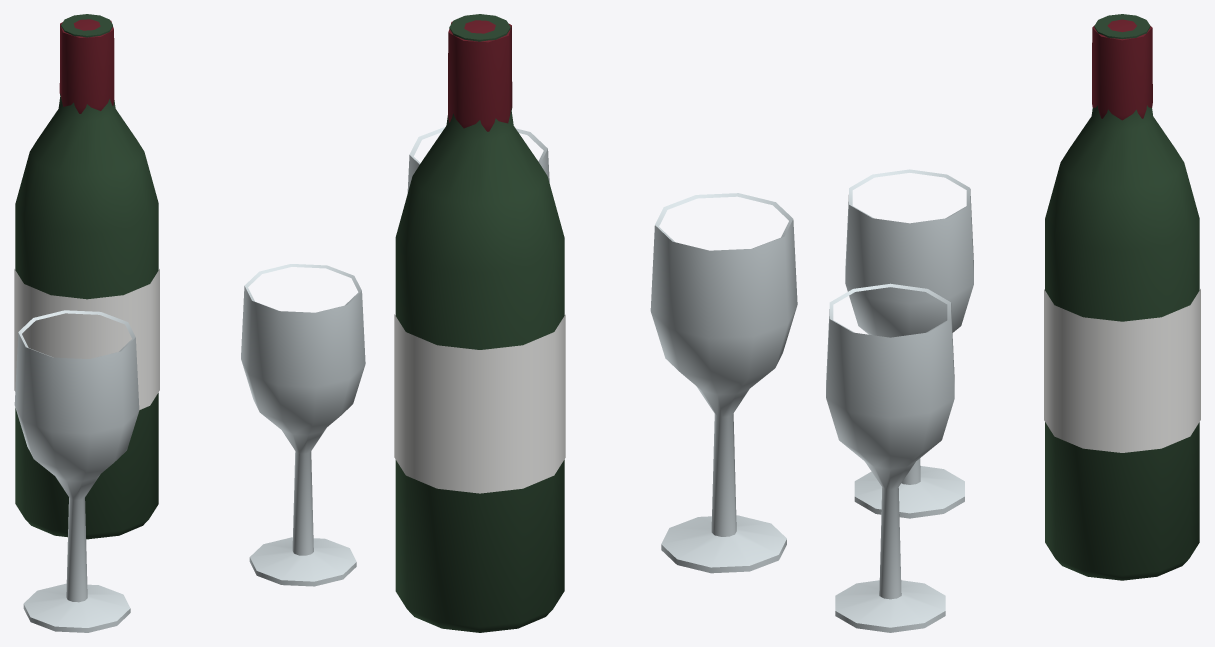
File: wineGlasses.glb
3 views of the same model, side by side, from view 1: azimuth 30°, elevation 25°; view 2: azimuth 150°, elevation 25°; view 3: azimuth 270°, elevation 25° (orthographic). The views are drawn at different scales.
Parts seen in each view (by area): view 1: wineGlasses; view 2: wineGlasses; view 3: wineGlasses.
Part boxes in pixels (<box>): wineGlasses: <box>14,14,365,632</box>; wineGlasses: <box>394,14,797,632</box>; wineGlasses: <box>826,14,1200,632</box>.
Bounding box in the file's own units: 0.21 × 0.301 × 0.1939.
